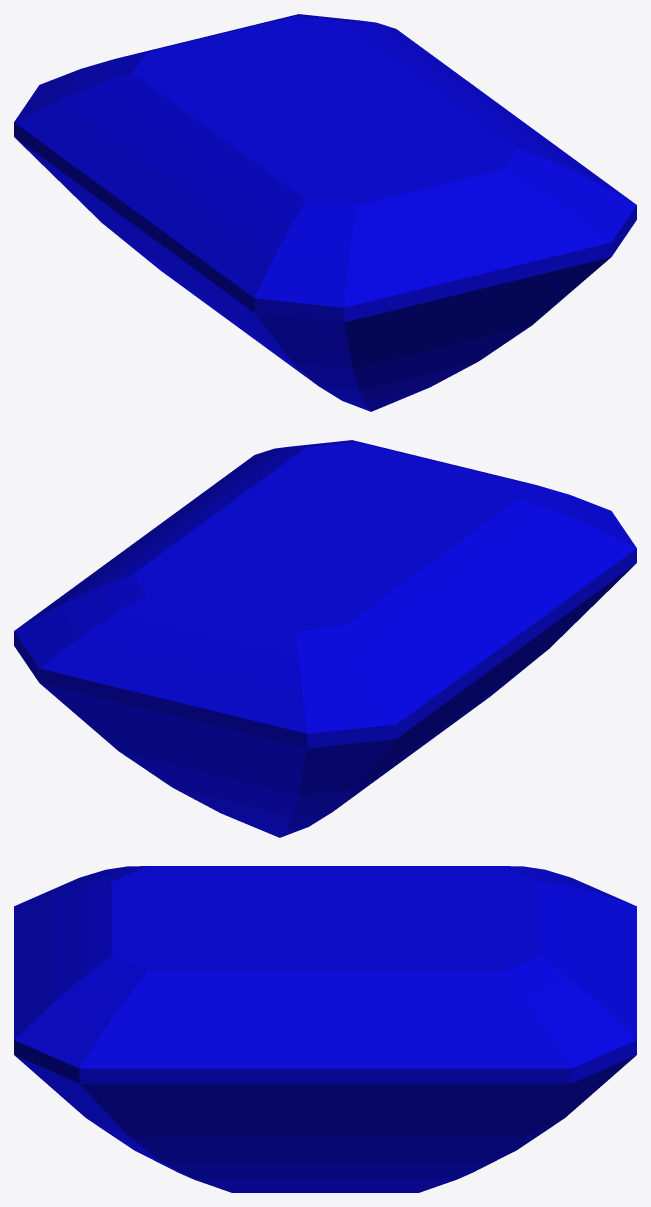
The model's file is Head_Single Halo_Emerald_2.0ct_Diamond.glb.
The picture shows the model from 3 angles, top to bottom: view 1: azimuth 30°, elevation 25°; view 2: azimuth 150°, elevation 25°; view 3: azimuth 270°, elevation 25°; orthographic projection. The views are drawn at different scales.
Bounding box in the file's own units: 0.00606 × 0.00405 × 0.00835.
